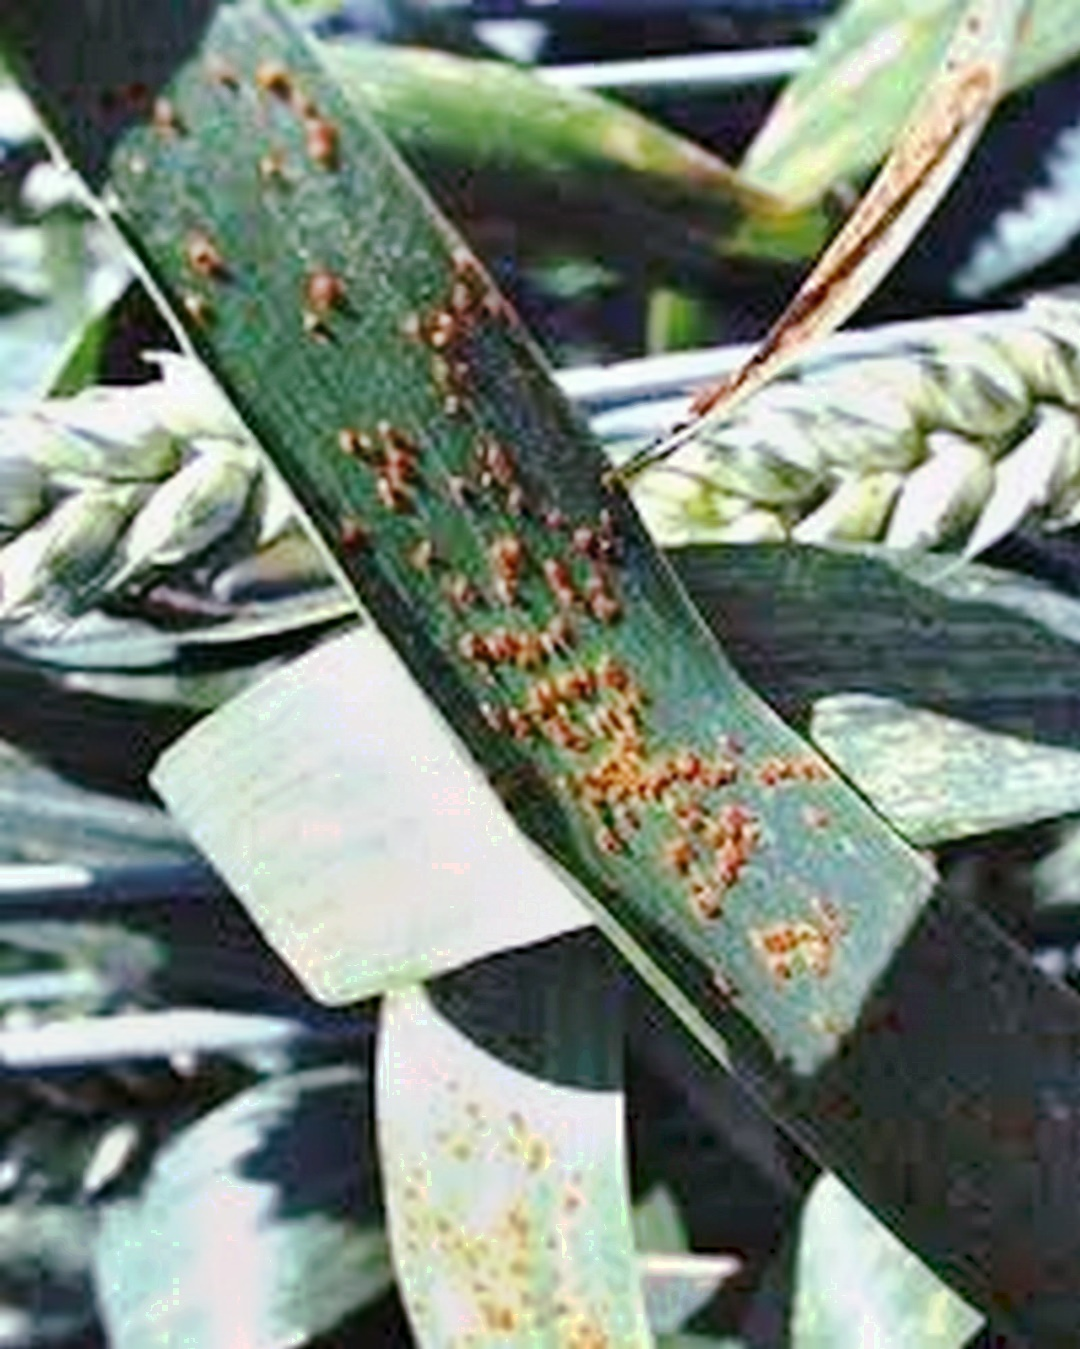Leaf Rust: (231, 258, 861, 948)
